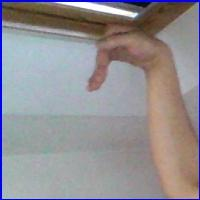del: (84, 22, 170, 100)
